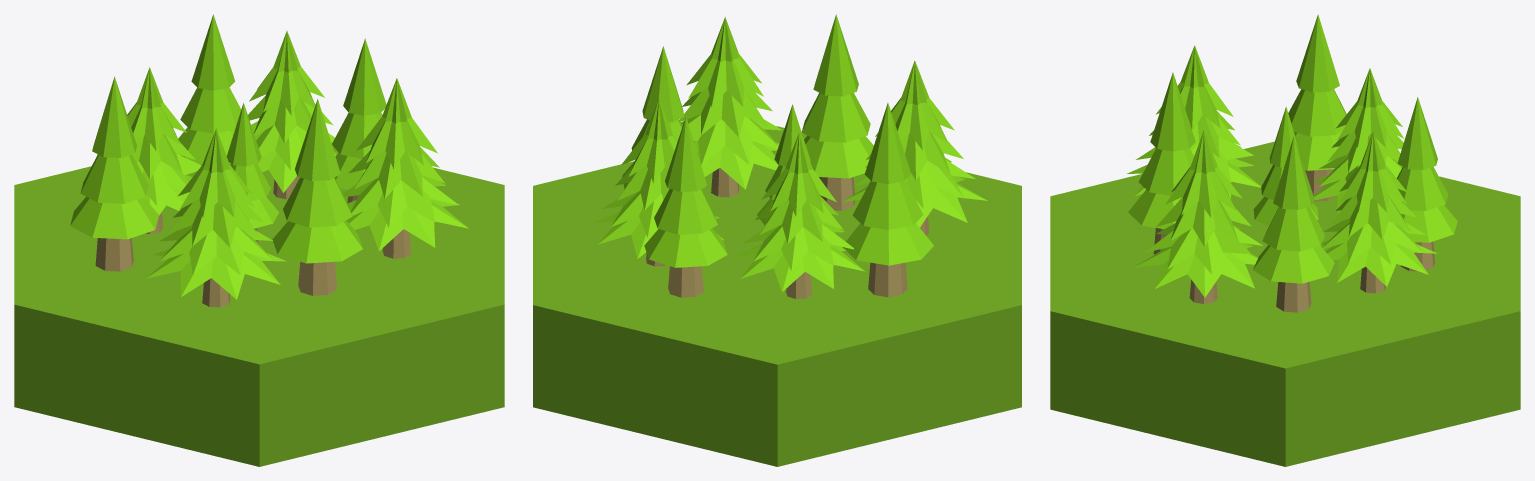
Rendered from Bosque_Pinos.fbx.
3 views of the same model, side by side, from view 1: azimuth 30°, elevation 25°; view 2: azimuth 150°, elevation 25°; view 3: azimuth 270°, elevation 25° (orthographic). The views are drawn at different scales.
Visible parts, largest first — view 1: Bosque_Pinos; view 2: Bosque_Pinos; view 3: Bosque_Pinos.
Boxes of the visible parts, bbox=[...] form: Bosque_Pinos: bbox=[14, 14, 504, 466]; Bosque_Pinos: bbox=[533, 14, 1021, 466]; Bosque_Pinos: bbox=[1050, 14, 1520, 466].
Bounding box in the file's own units: 200 × 114 × 173.
